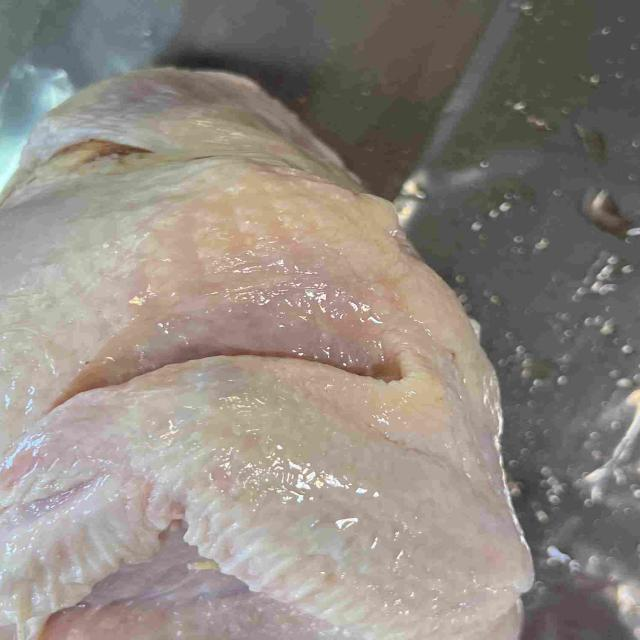wing: (0, 356, 527, 640)
